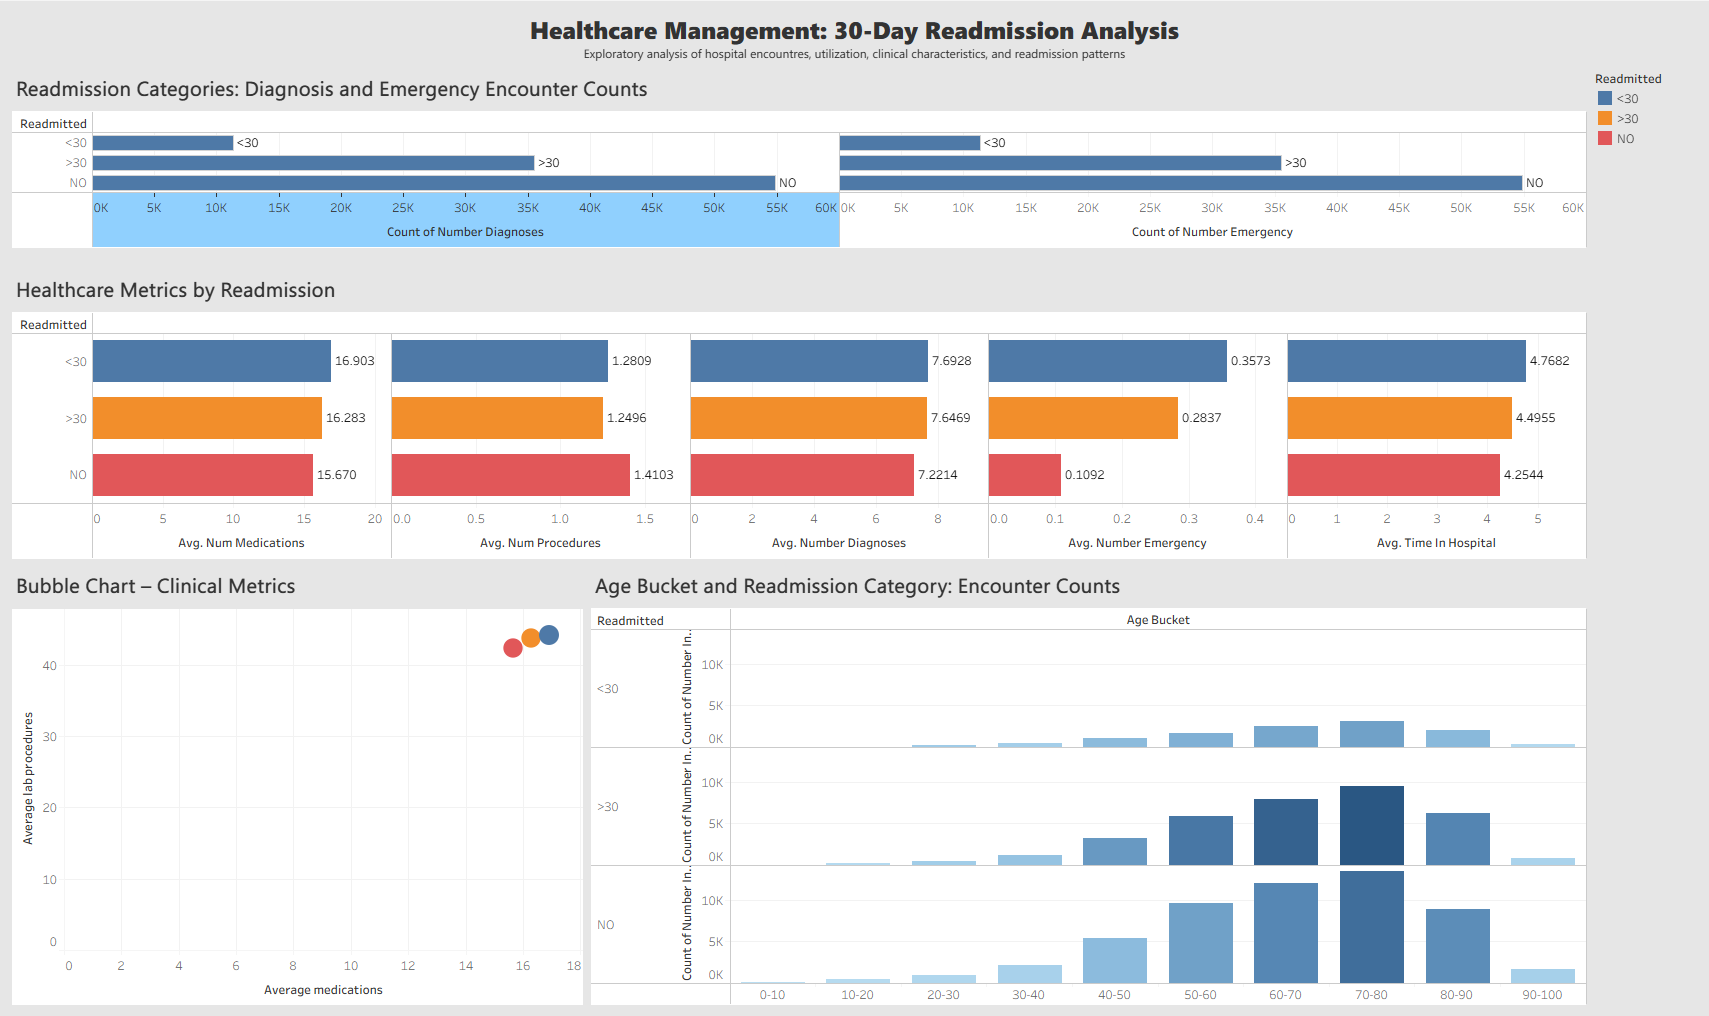

This screenshot's page, from the dashboard's own definition file:
{"tool":"tableau","page":{"name":"Healthcare Management: 30-Day Readmission Analysis","canvas":[1000,1000],"units":"permille","ordinal":0},"visuals":[{"type":"title","box":[4.7,7.9,990.6,56.1]},{"type":"worksheet","title":"Readmission by Diagnosis Count","mark":"Automatic","rows":["readmitted"],"cols":["number_diagnoses","number_emergency"],"box":[4.7,64,926.3,197.6]},{"type":"legend","title":"Healthcare Metrics by Readmission","param":"[federated.1bgorf71szd0gw19j5zrc1vynid7].[none:readmitted:nk]","box":[931,64,64.4,84.6]},{"type":"worksheet","title":"Healthcare Metrics by Readmission","mark":"Automatic","rows":["readmitted"],"cols":["num_medications","num_procedures","number_diagnoses","number_emergency","time_in_hospital"],"box":[4.7,261.6,926.3,291.6]},{"type":"worksheet","title":"Bubble Chart – Clinical Metrics","mark":"Circle","rows":["num_lab_procedures"],"cols":["num_medications"],"box":[4.7,553.2,339.1,438.9]},{"type":"worksheet","title":"Age Bucket Readmission Analysis","mark":"Automatic","rows":["readmitted","number_inpatient"],"cols":["Calculation_1726005149896705"],"box":[343.7,553.2,587.2,438.9]}]}

Visuals, with their boxes on the dashboard's canvas, which has no fixed pixel size, in thousandths of its width and height (x1, y1, x2, y2). These are canvas units, not pixel positions in the 1709x1016 screenshot, which may show the page scaled, cropped or inside an application window:
title: locate(5, 8, 995, 64)
"Readmission by Diagnosis Count" worksheet: locate(5, 64, 931, 262)
"Healthcare Metrics by Readmission" legend: locate(931, 64, 995, 149)
"Healthcare Metrics by Readmission" worksheet: locate(5, 262, 931, 553)
"Bubble Chart – Clinical Metrics" worksheet (Circle marks): locate(5, 553, 344, 992)
"Age Bucket Readmission Analysis" worksheet: locate(344, 553, 931, 992)
